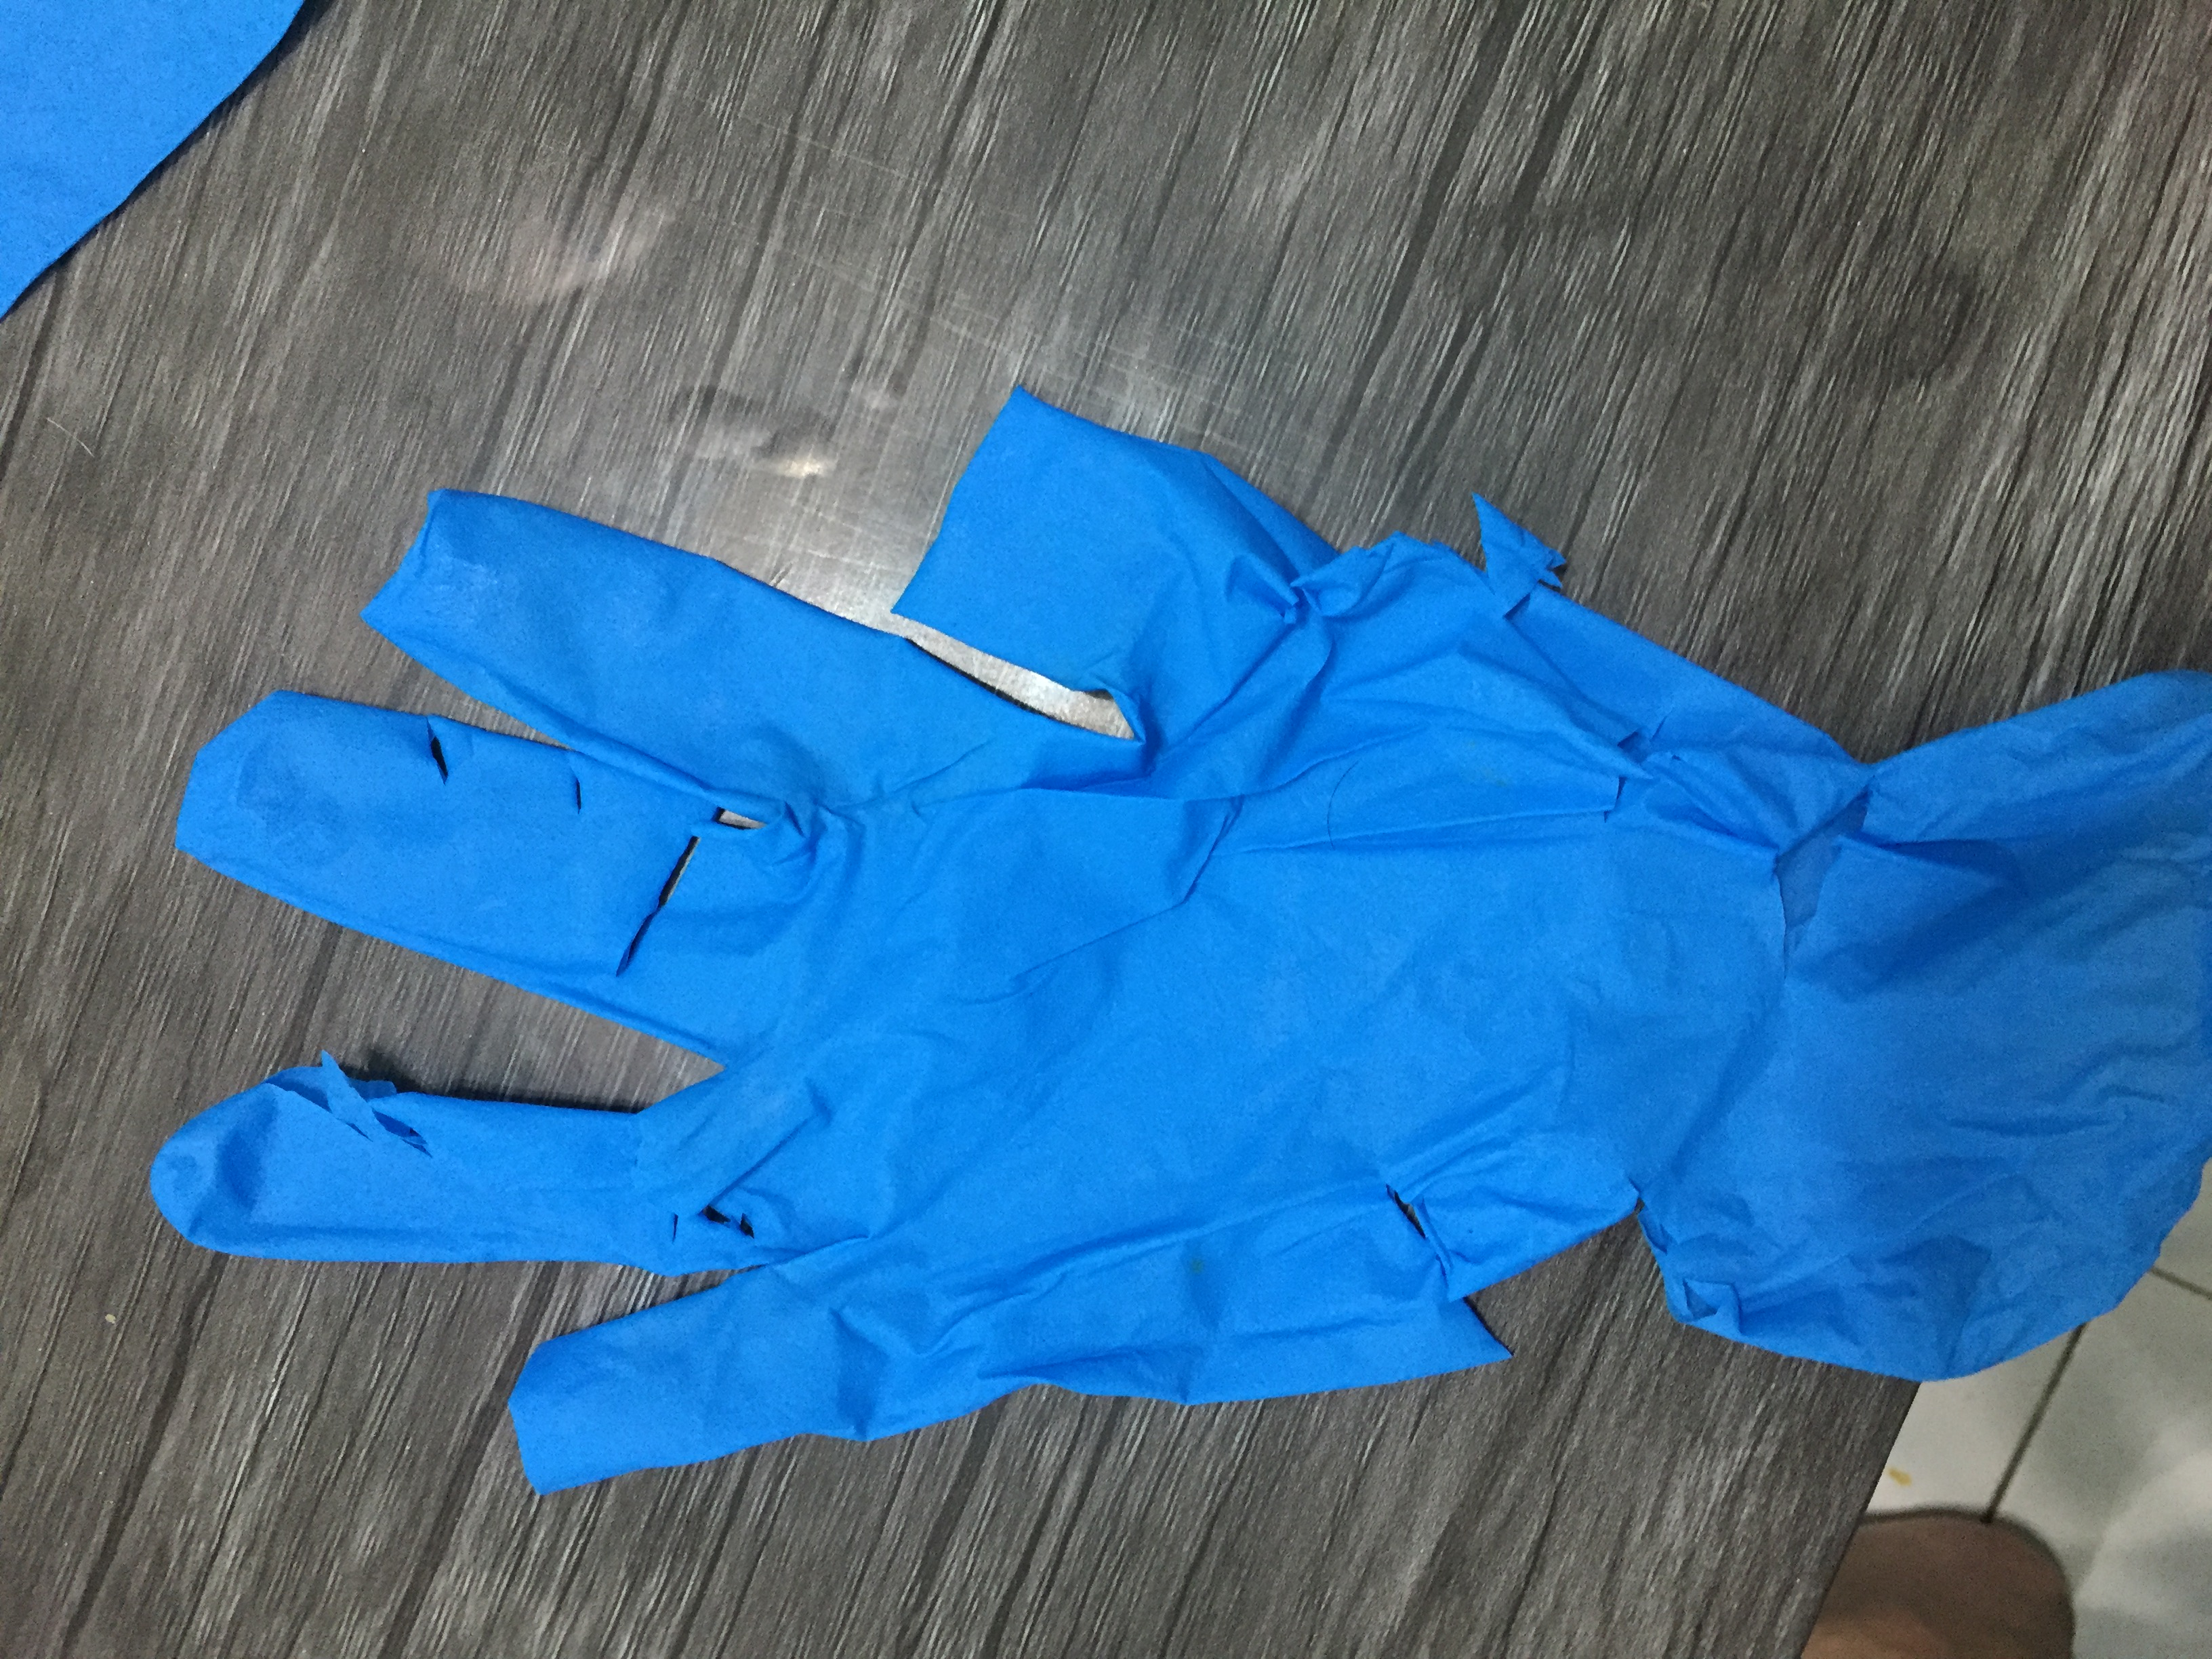defected: (68, 375, 2212, 1476)
